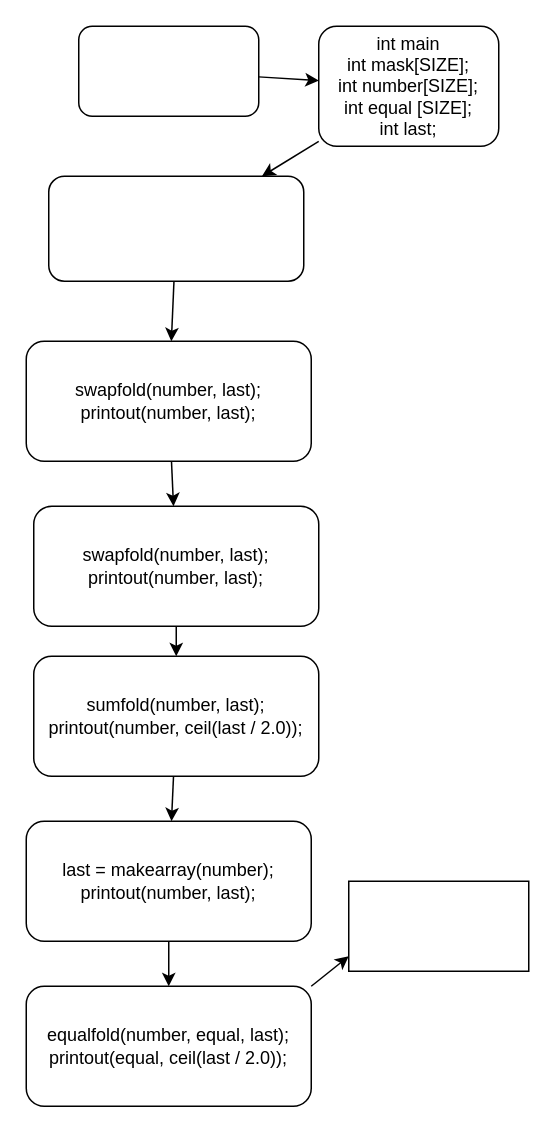
Some shapes in this 555 by 1133 pixel diagram are drawn without their labels. Each missing label, with the centre of its shape:
last = makearray(number); printout (number, last);: the point at 175,228
return 0;: the point at 438,925
start: the point at 168,70
